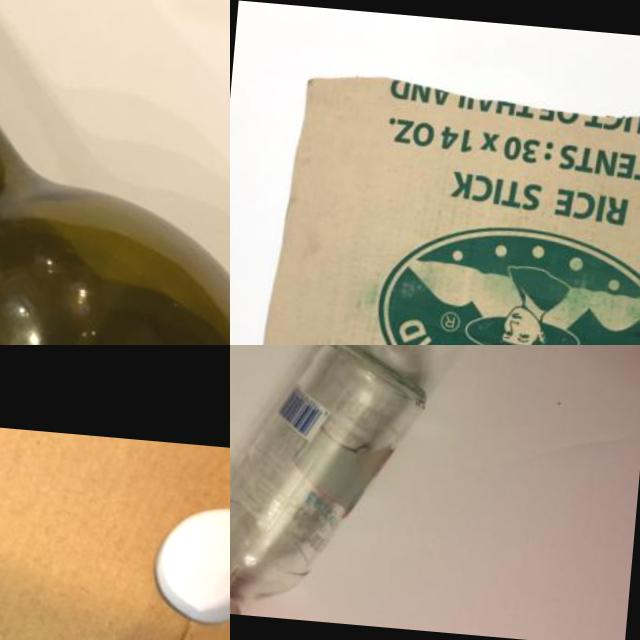garrafa de vidro: (0, 0, 230, 345), (230, 345, 430, 628)
papelão: (255, 66, 640, 345), (0, 394, 230, 640)
